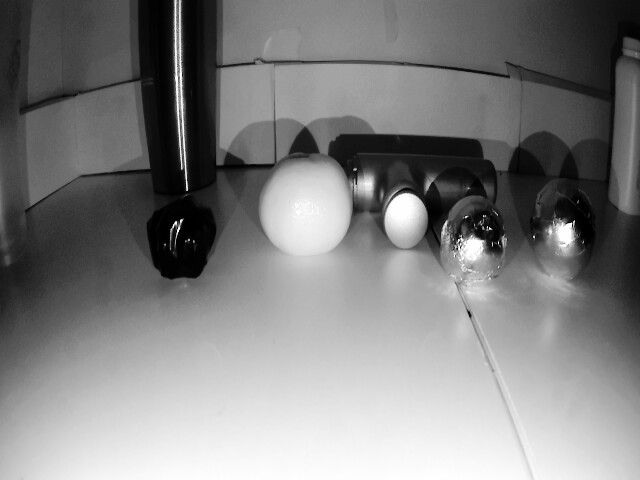black: (146, 196, 215, 287)
silver: (523, 180, 588, 272), (443, 196, 512, 281)
